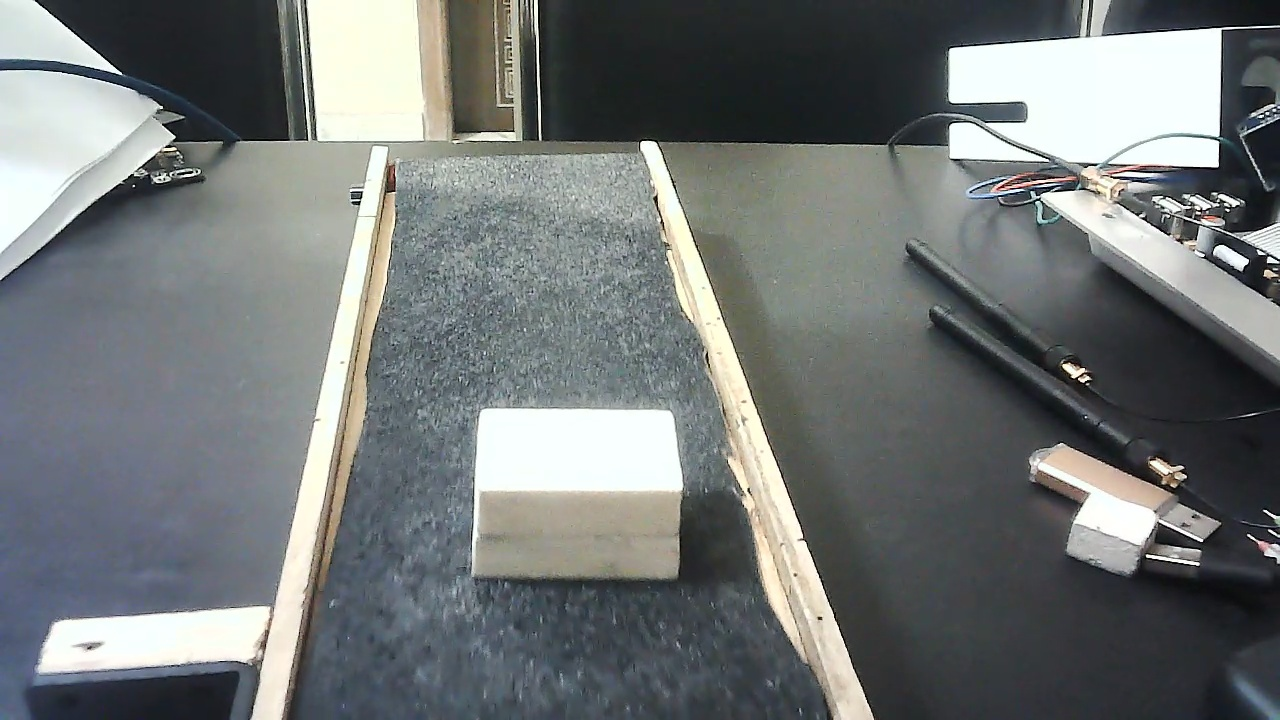BIG: (472, 388, 682, 598)
